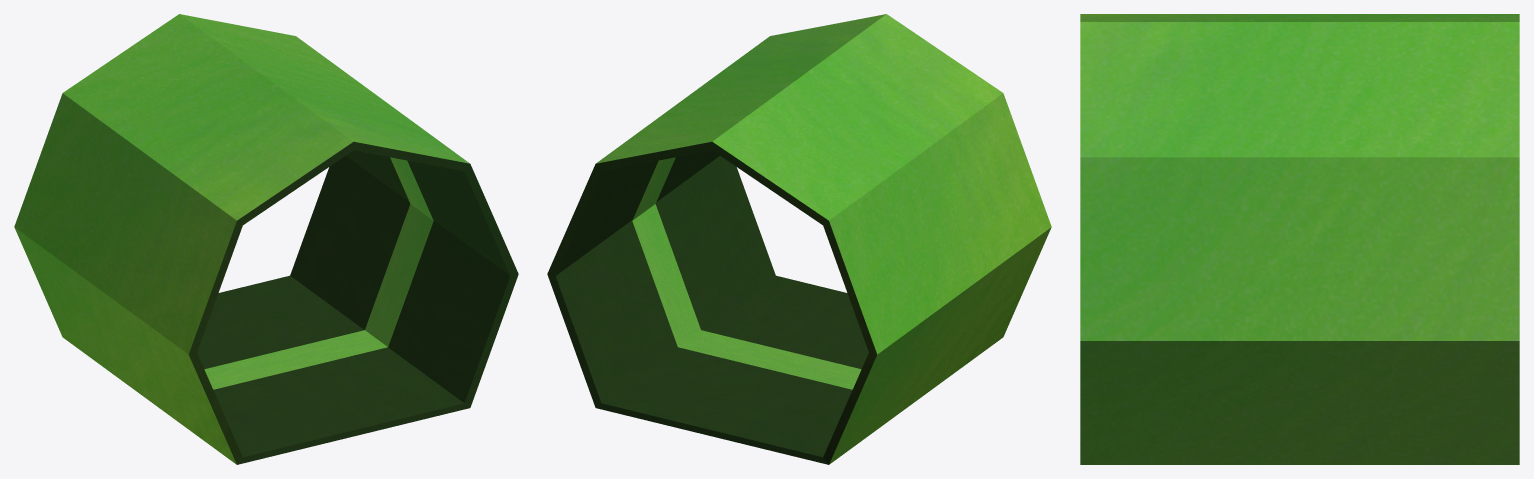
File: MemeFactory_Fragment_Art.glb
The picture shows the model from 3 angles, left to right: view 1: azimuth 30°, elevation 25°; view 2: azimuth 150°, elevation 25°; view 3: azimuth 270°, elevation 25°; orthographic projection. The views are drawn at different scales.
Parts seen in each view (by area): view 1: MemeFactory_Fragment_Art; view 2: MemeFactory_Fragment_Art; view 3: MemeFactory_Fragment_Art.
Part boxes in pixels (left/top/right/bottom): MemeFactory_Fragment_Art: left=14, top=14, right=518, bottom=464; MemeFactory_Fragment_Art: left=547, top=14, right=1051, bottom=464; MemeFactory_Fragment_Art: left=1080, top=14, right=1519, bottom=464.
Bounding box in the file's own units: 3.94 × 3.36 × 3.6.
Materials: 2 (2 with a texture image).
